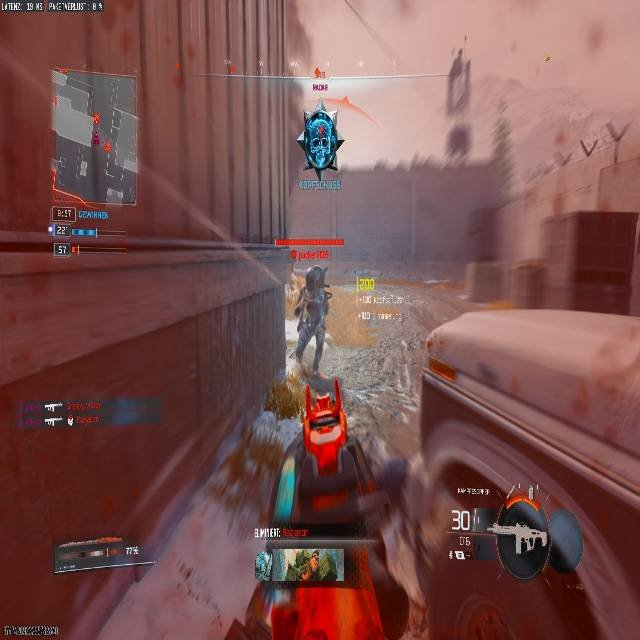head: (303, 266, 325, 289)
player: (254, 372, 414, 636), (287, 266, 334, 378), (300, 105, 344, 174)
